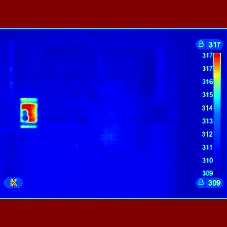High: (15, 98, 46, 132)
